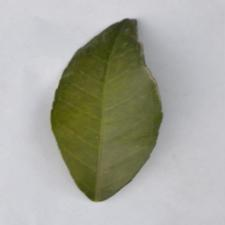Healthy: (53, 18, 156, 170)
